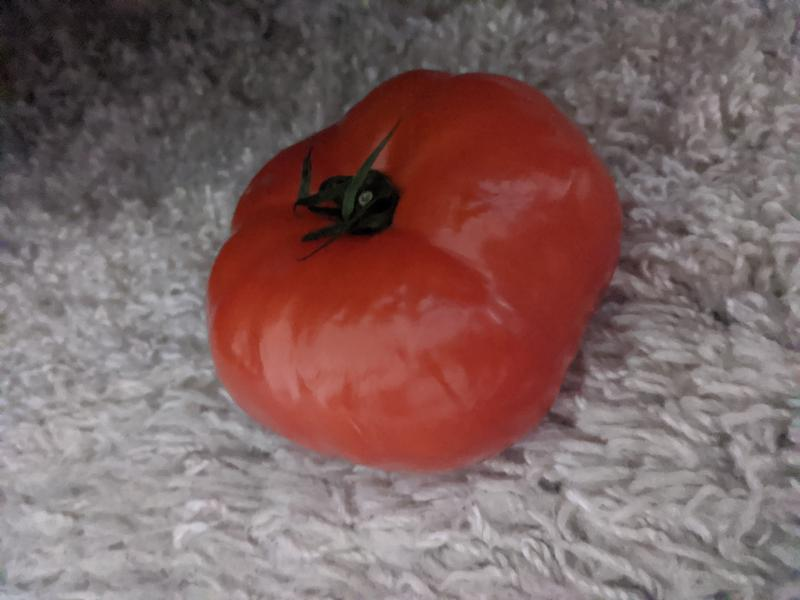tomato: (206, 69, 625, 472)
